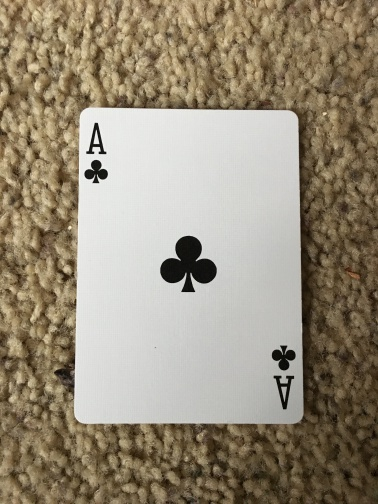ace: (74, 105, 303, 425)
